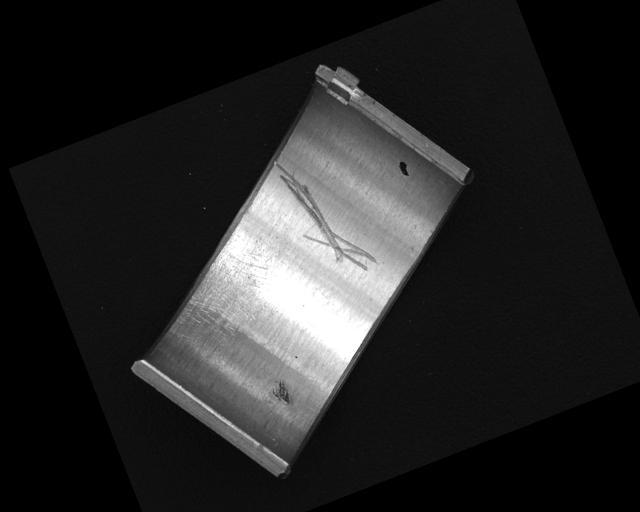blot: (396, 157, 412, 179)
bruise: (268, 377, 294, 408)
nick: (270, 134, 379, 288)
scratch: (150, 232, 295, 357)
